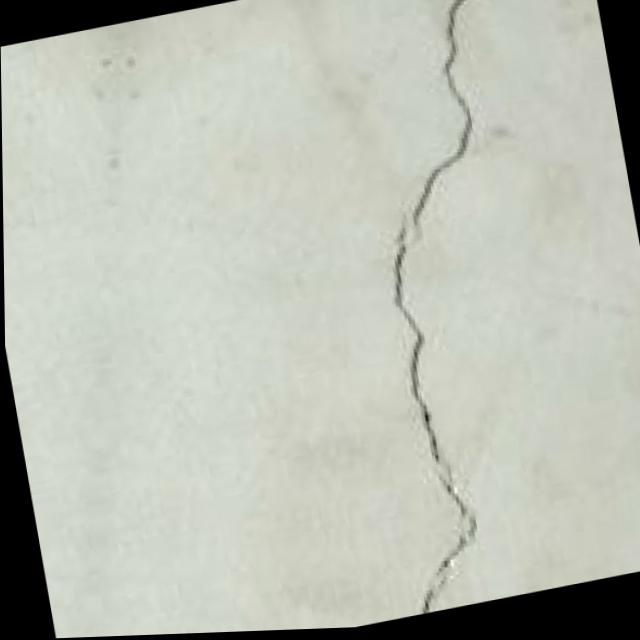Crack: (240, 0, 614, 633)
